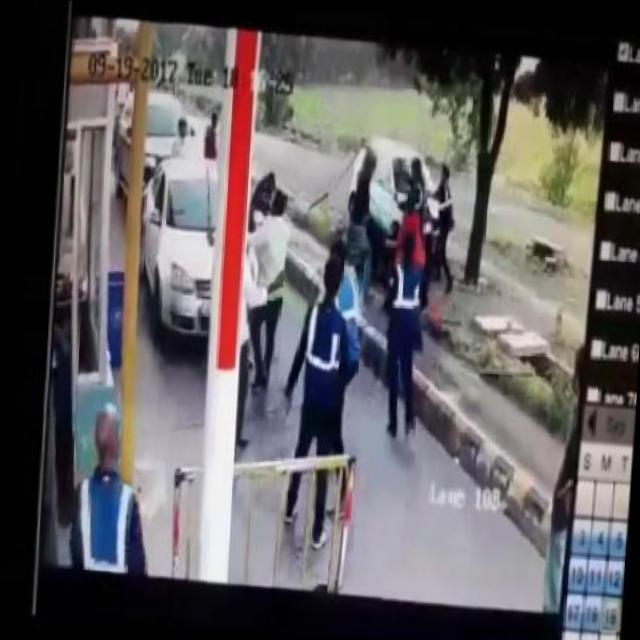fight: (330, 130, 404, 296)
